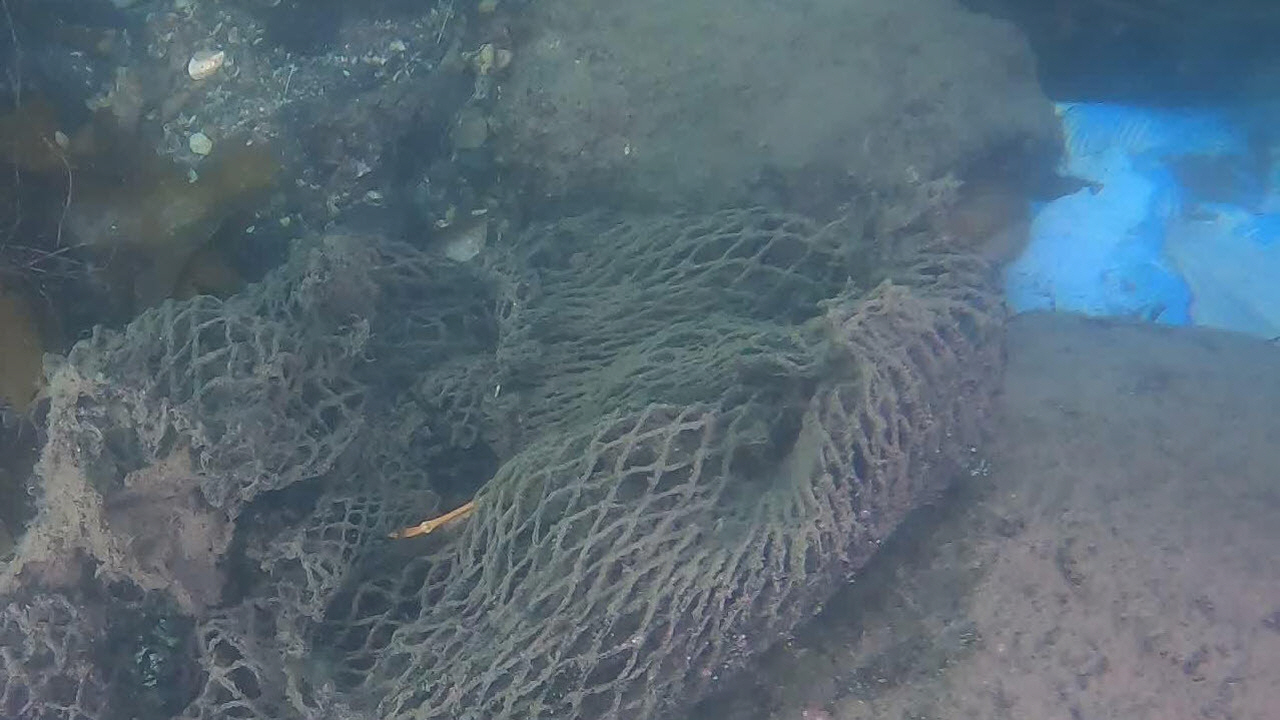fish net: (0, 203, 1009, 720)
